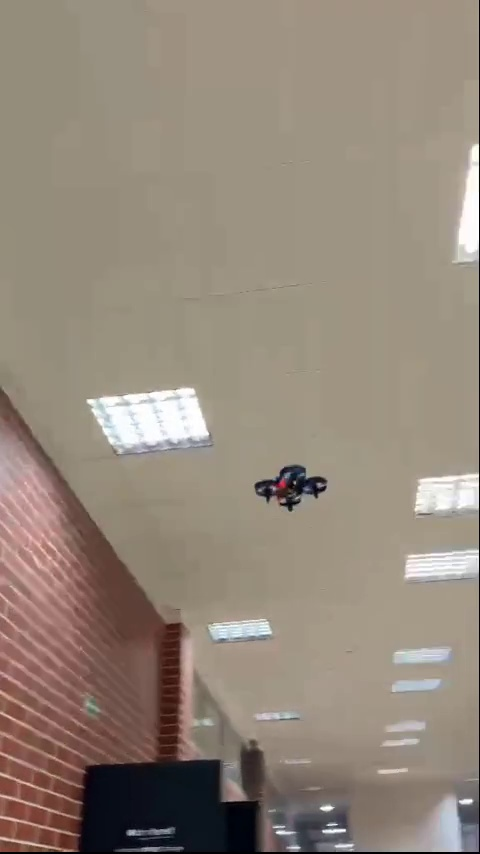drone: (253, 464, 330, 515)
